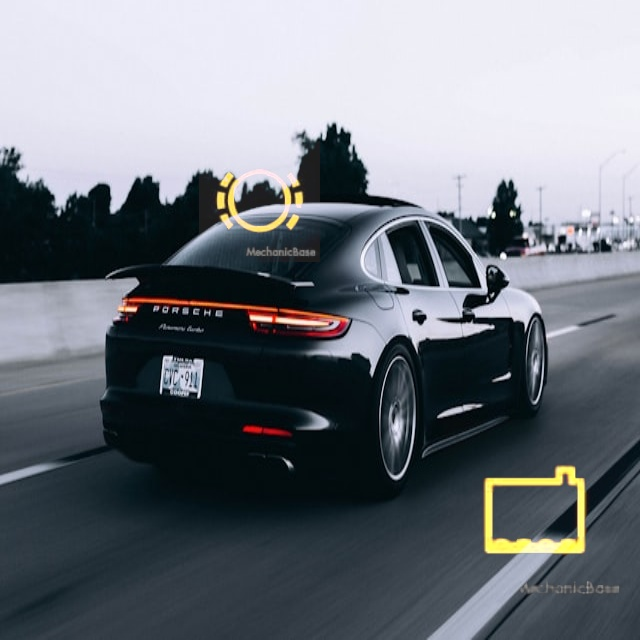symbol: (443, 419, 627, 603), (199, 141, 320, 262)
